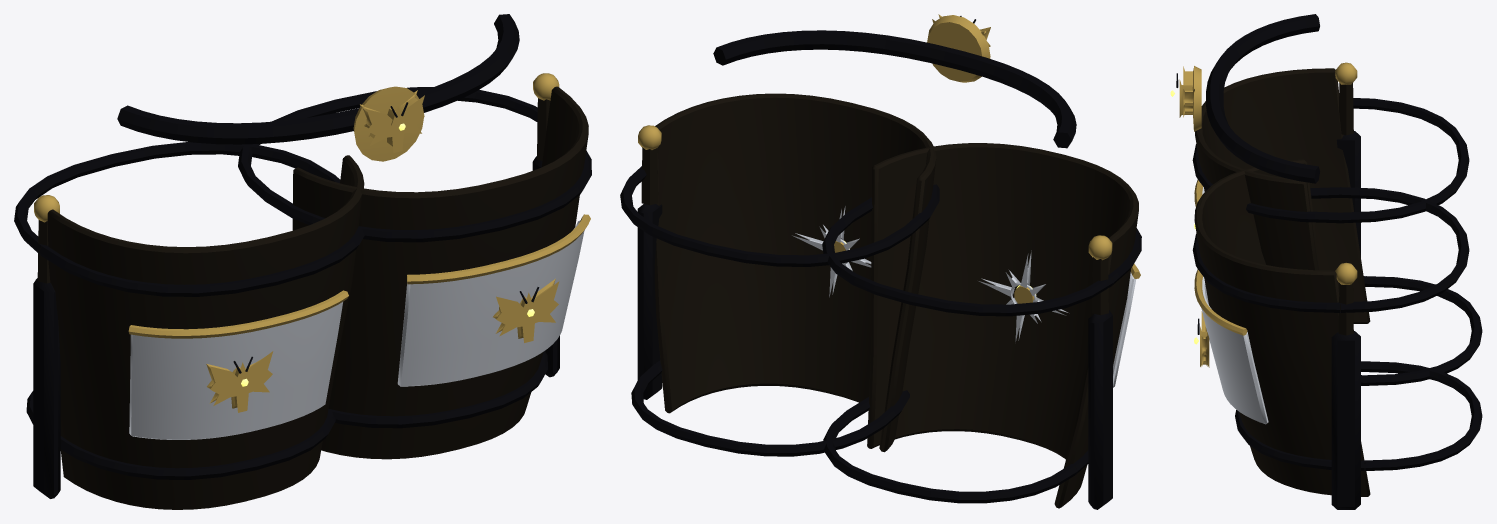
The model's file is esc_null_reaper_leggings.glb.
3 views of the same model, side by side, from view 1: azimuth 30°, elevation 25°; view 2: azimuth 150°, elevation 25°; view 3: azimuth 270°, elevation 25° (orthographic). The views are drawn at different scales.
Parts seen in each view (by area): view 1: AT_thigh_R, AT_thigh_L, esc_null_reaper_leggings; view 2: AT_thigh_L, AT_thigh_R, esc_null_reaper_leggings; view 3: AT_thigh_L, AT_thigh_R, esc_null_reaper_leggings.
Boxes of the visible parts, x1,y1,x2,y2 form: AT_thigh_R: (14, 142, 364, 509); AT_thigh_L: (238, 73, 591, 459); esc_null_reaper_leggings: (117, 14, 519, 161); AT_thigh_L: (620, 93, 939, 456); AT_thigh_R: (822, 143, 1141, 509); esc_null_reaper_leggings: (713, 14, 1076, 341); AT_thigh_L: (1192, 159, 1482, 509); AT_thigh_R: (1192, 62, 1482, 385); esc_null_reaper_leggings: (1170, 14, 1320, 183).
Bounding box in the file's own units: 0.5071 × 0.3851 × 0.319.
